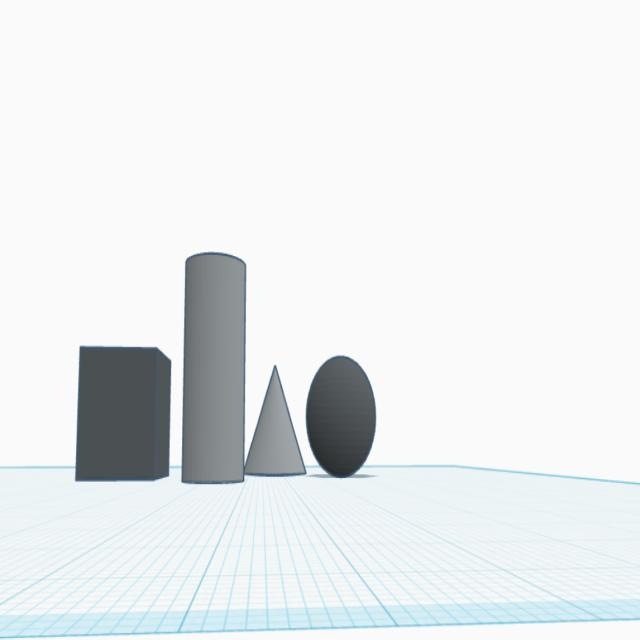cone: (245, 358, 308, 478)
cube: (72, 338, 172, 484)
sphere: (304, 353, 378, 476)
